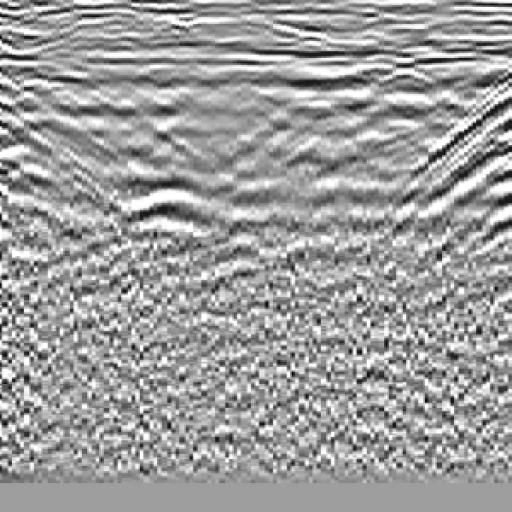metalic: (86, 142, 253, 290)
nonmetalic: (383, 63, 512, 299)
